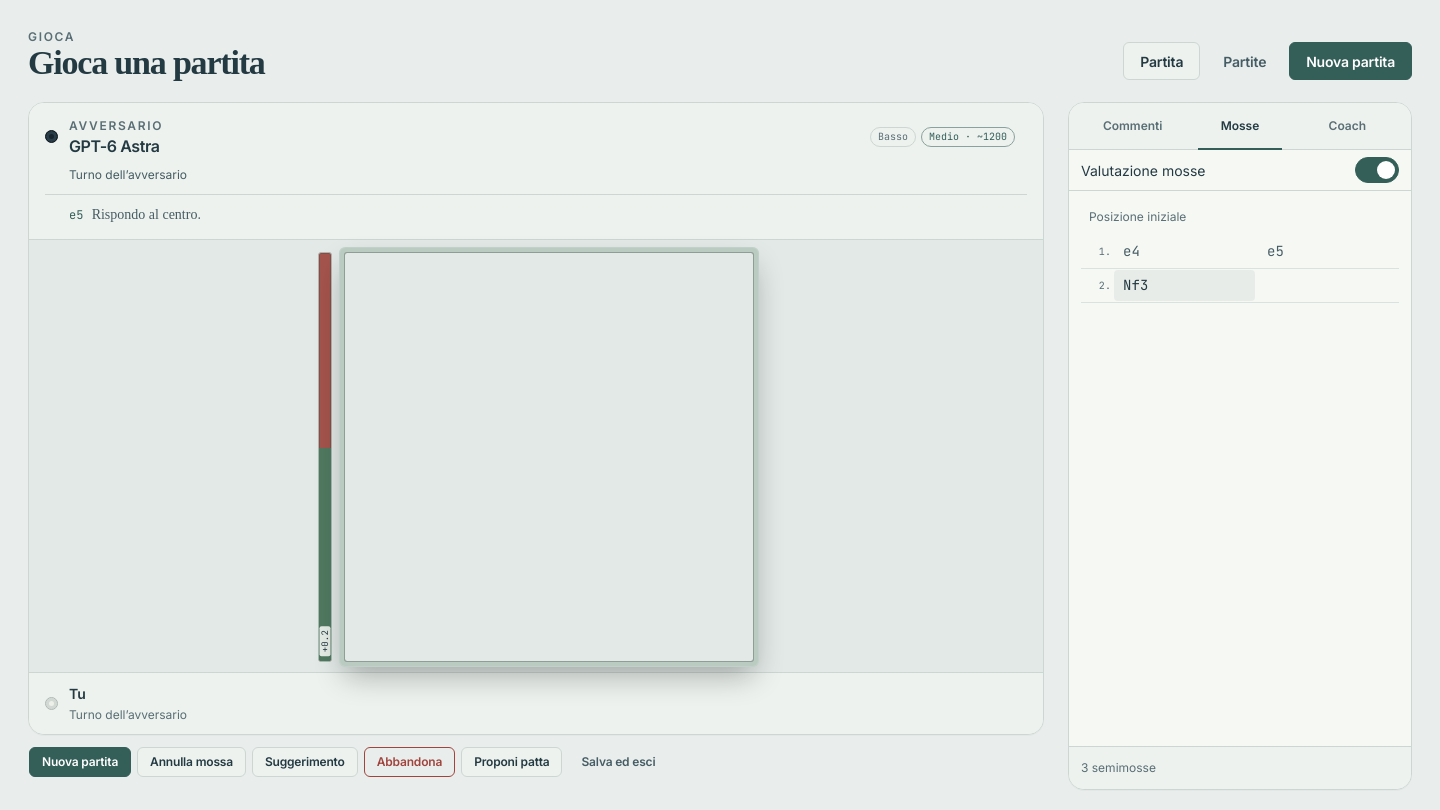
PlayScreen › asks for a confirmation before resigning
Click the button "Abbandona".
click(409, 762)  # box [364,747,455,777]
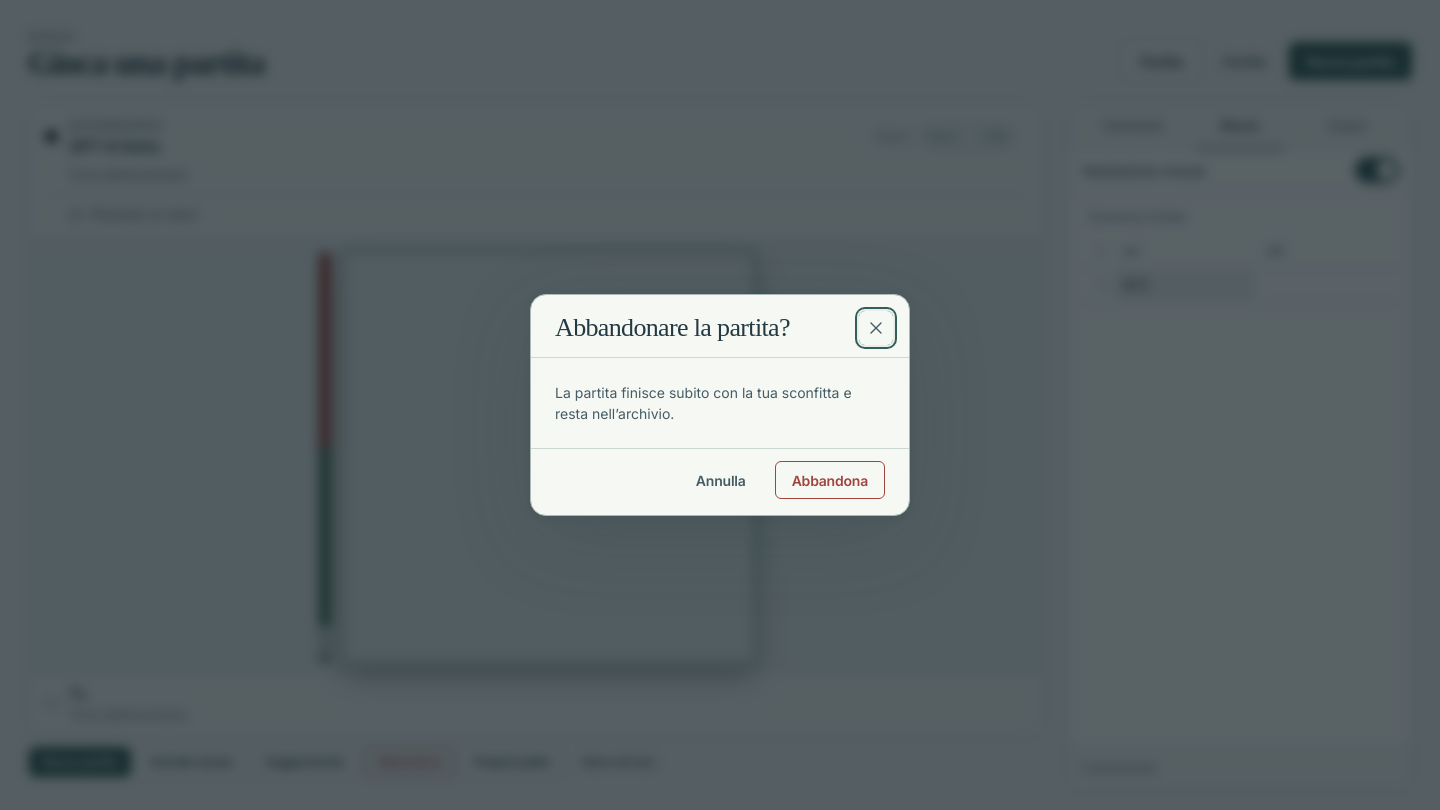
Check: the dialog shows "Abbandonare la partita?", box [555,313,790,342]
